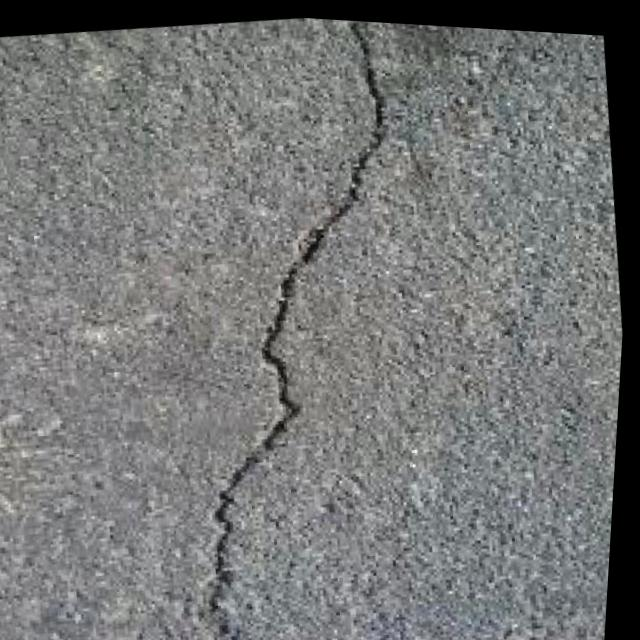Crack: (98, 6, 494, 640)
